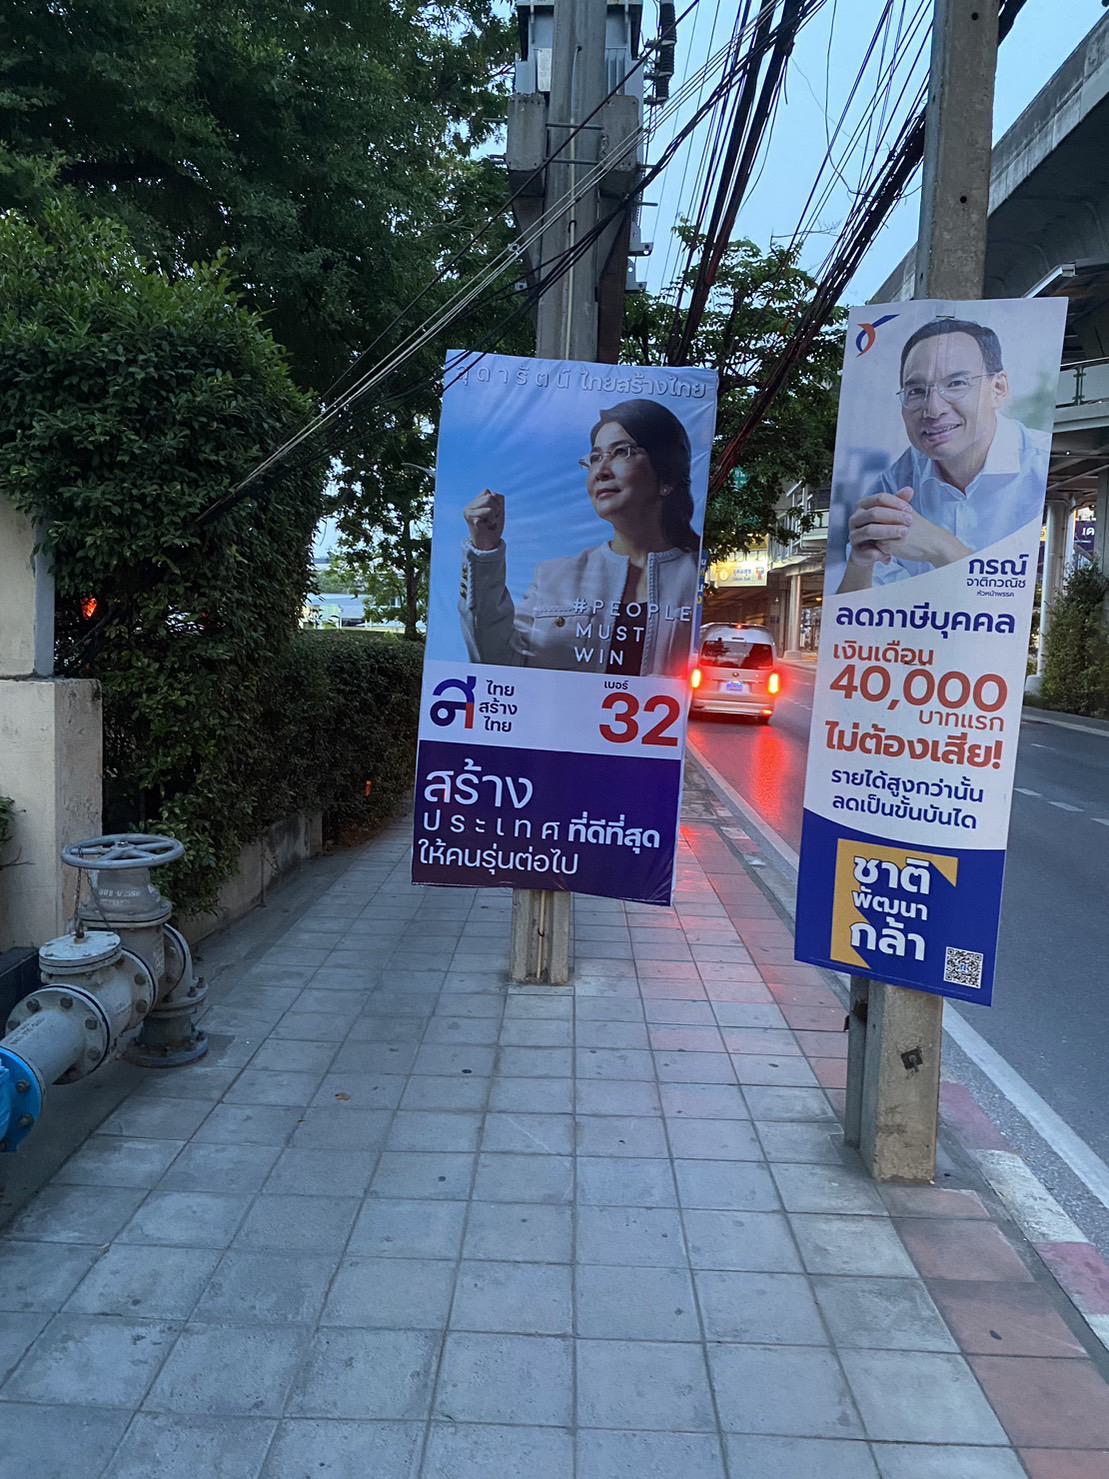Banner: (801, 279, 1079, 983), (432, 331, 716, 917)
